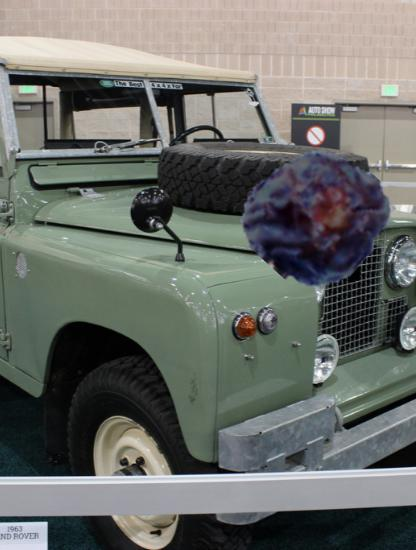Dates: (248, 147, 385, 284)
